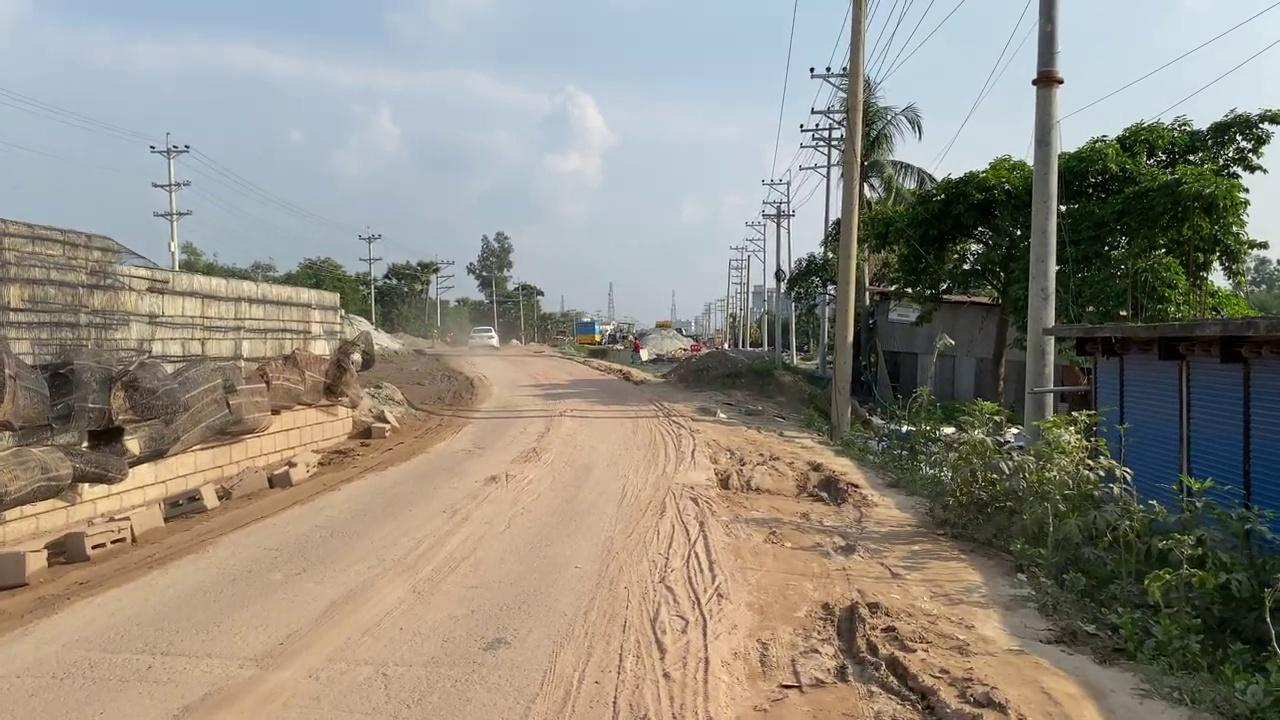Car: (466, 325, 499, 349)
Obstacle: (43, 516, 135, 562), (0, 546, 48, 588)
Pole: (1022, 1, 1063, 446), (828, 0, 866, 443)
Rickshaw: (563, 358, 1128, 720)
Traffic-sign: (784, 67, 940, 432), (465, 229, 513, 333)
Tree: (575, 280, 636, 347), (575, 318, 635, 347)
Upstairs: (0, 216, 375, 549)
